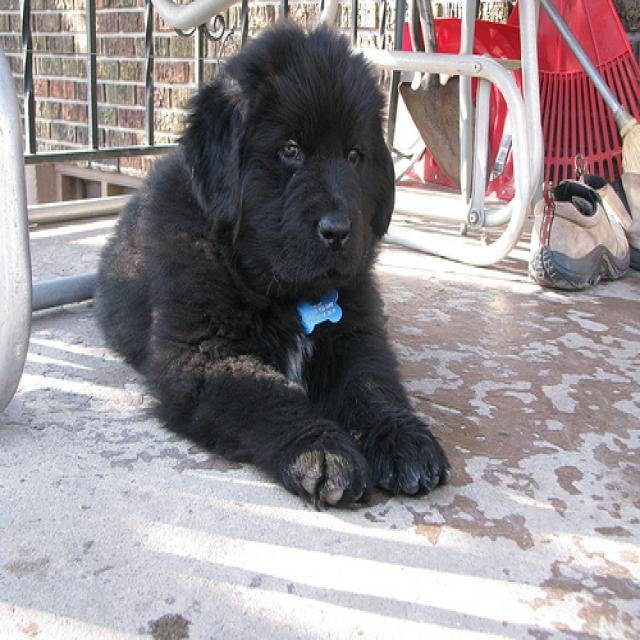dog-newfoundland: (83, 7, 454, 522)
